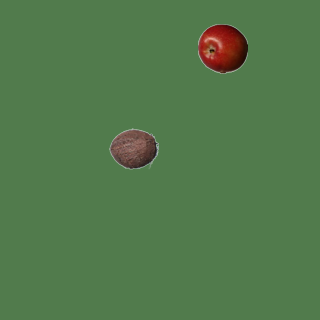Apple Braeburn: (197, 23, 247, 73)
Cocos: (108, 123, 158, 173)
